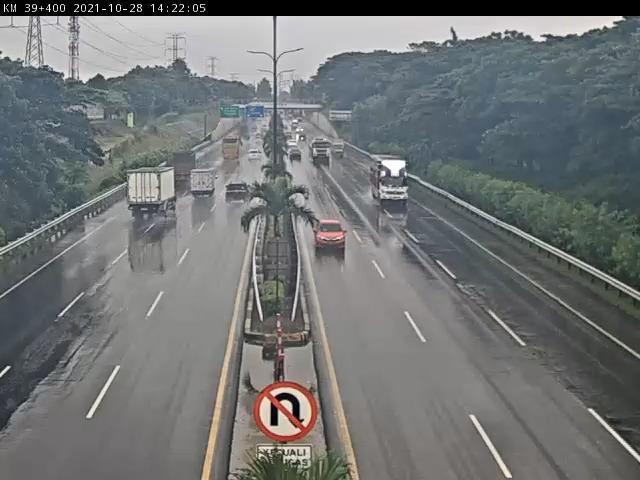car: (311, 219, 348, 252), (226, 182, 253, 206)
truck: (127, 167, 177, 221), (371, 155, 411, 205), (159, 149, 199, 189), (189, 170, 218, 200)
